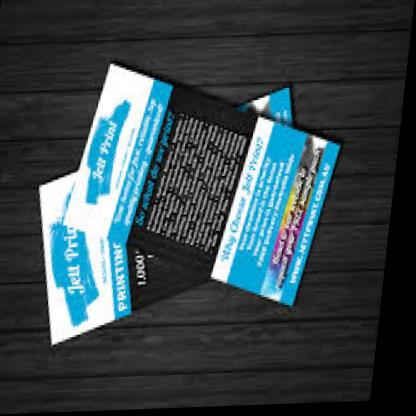Paper: (0, 44, 364, 373)
